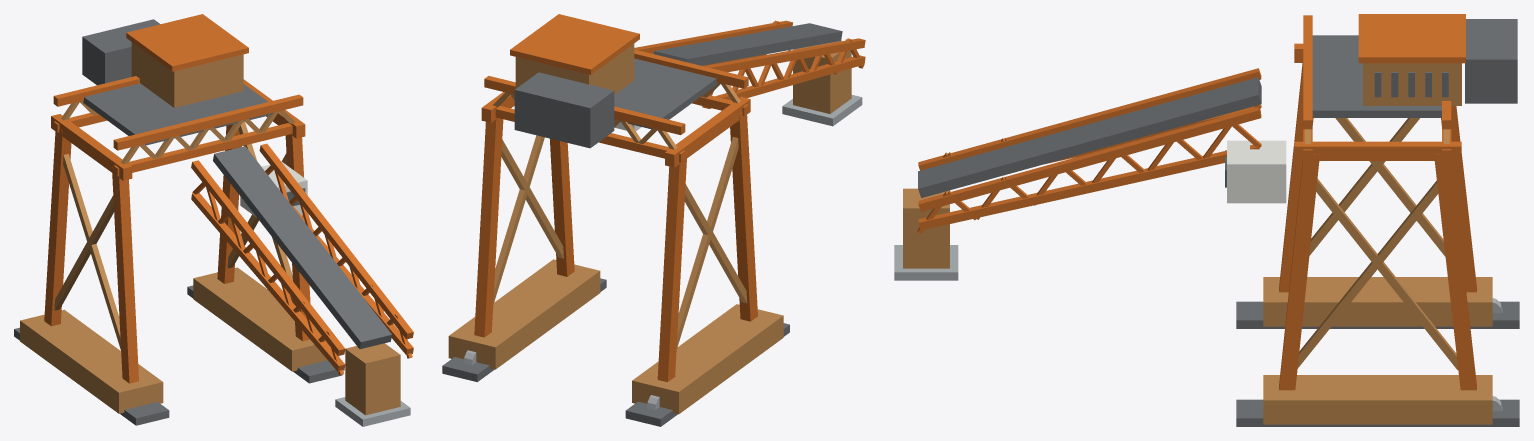
Rendered from ship-loader.glb.
3 views of the same model, side by side, from view 1: azimuth 30°, elevation 25°; view 2: azimuth 150°, elevation 25°; view 3: azimuth 270°, elevation 25° (orthographic). The views are drawn at different scales.
Parts seen in each view (by area): view 1: ShipLoader; view 2: ShipLoader; view 3: ShipLoader.
Boxes of the visible parts, bbox=[...] form: ShipLoader: bbox=[14, 14, 413, 426]; ShipLoader: bbox=[442, 14, 865, 426]; ShipLoader: bbox=[894, 14, 1519, 426].
Size of the model in its own units: 4.32 by 5.75 by 9.28.
